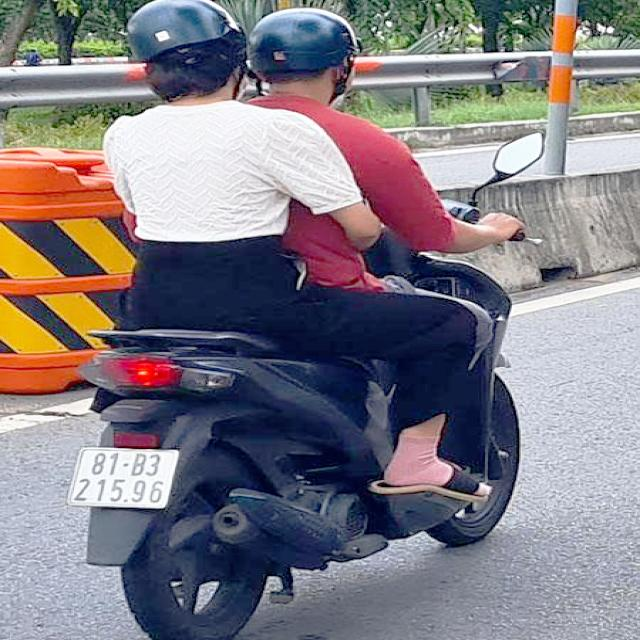license_plate: (64, 447, 179, 506)
